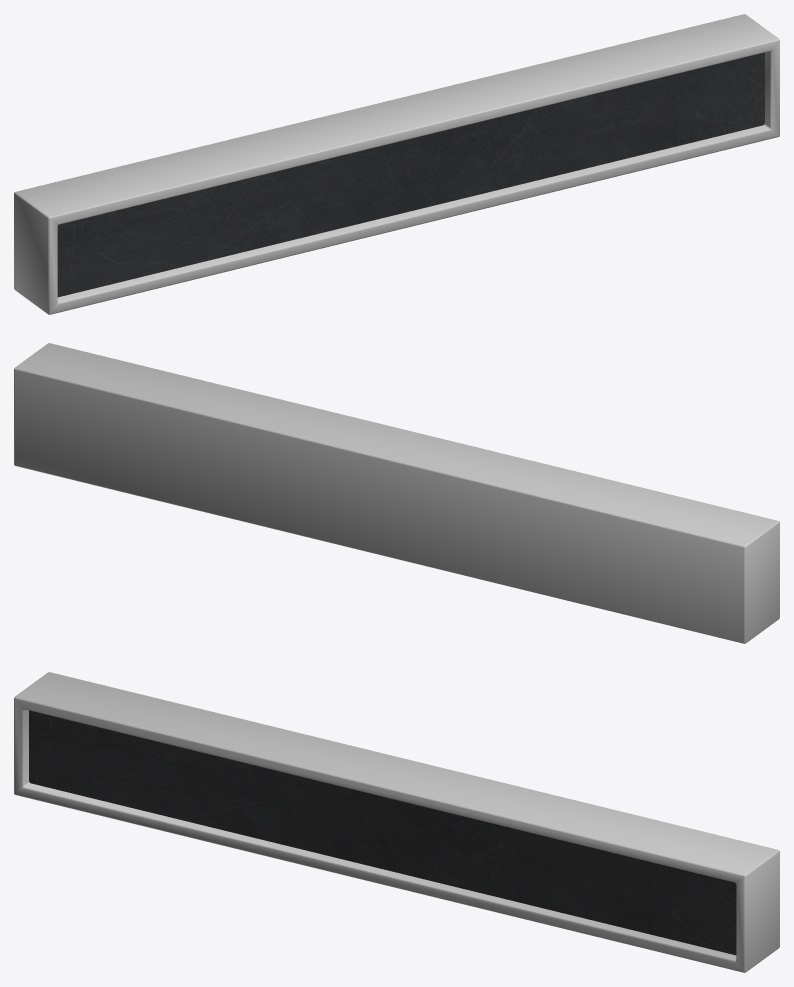
The model's file is C_Clock_.fbx.
The picture shows the model from 3 angles, top to bottom: view 1: azimuth 30°, elevation 25°; view 2: azimuth 150°, elevation 25°; view 3: azimuth 330°, elevation 25°; orthographic projection.
Visible parts, largest first — view 1: C_Clock; view 2: C_Clock; view 3: C_Clock.
Part boxes in pixels (left/top/right/bottom): C_Clock: left=14, top=14, right=779, bottom=314; C_Clock: left=14, top=343, right=779, bottom=643; C_Clock: left=14, top=672, right=779, bottom=972.
Size of the model in its own units: 200 by 25.62 by 16.77.
